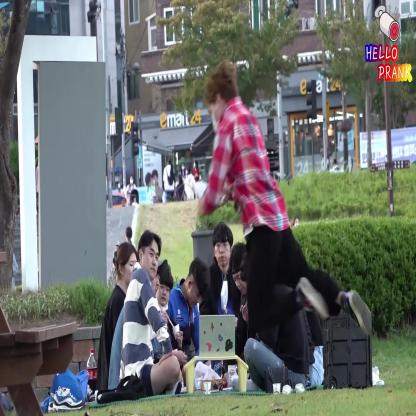Fall_Down: (196, 56, 374, 342)
